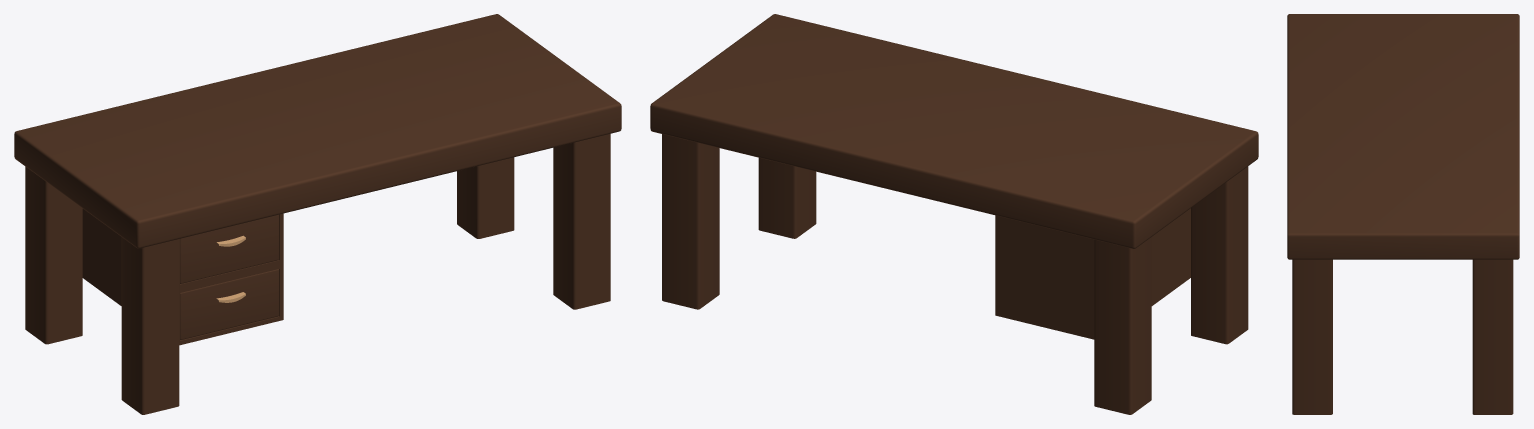
The model's file is Desk.fbx.
The picture shows the model from 3 angles, left to right: view 1: azimuth 30°, elevation 25°; view 2: azimuth 150°, elevation 25°; view 3: azimuth 270°, elevation 25°; orthographic projection. The views are drawn at different scales.
Parts seen in each view (by area): view 1: Desk_starnick; view 2: Desk_starnick; view 3: Desk_starnick.
Boxes of the visible parts, bbox=[...] form: Desk_starnick: bbox=[14, 14, 621, 414]; Desk_starnick: bbox=[650, 14, 1258, 414]; Desk_starnick: bbox=[1287, 14, 1519, 414].
Size of the model in its own units: 1800 by 800 by 700.
